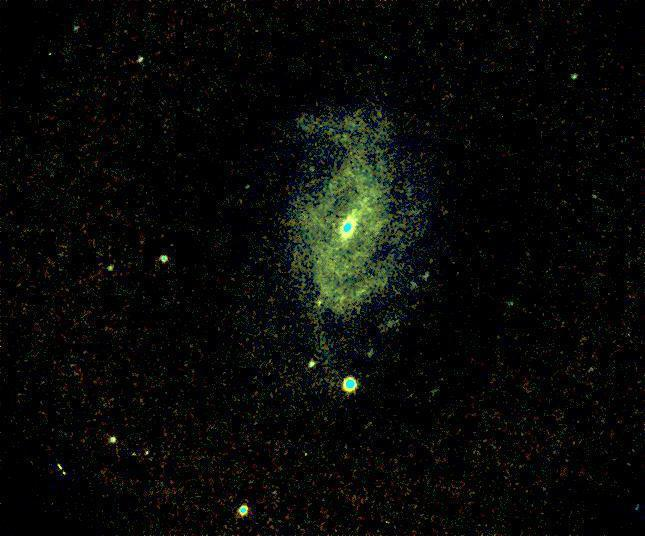star: (46, 460, 76, 490)
